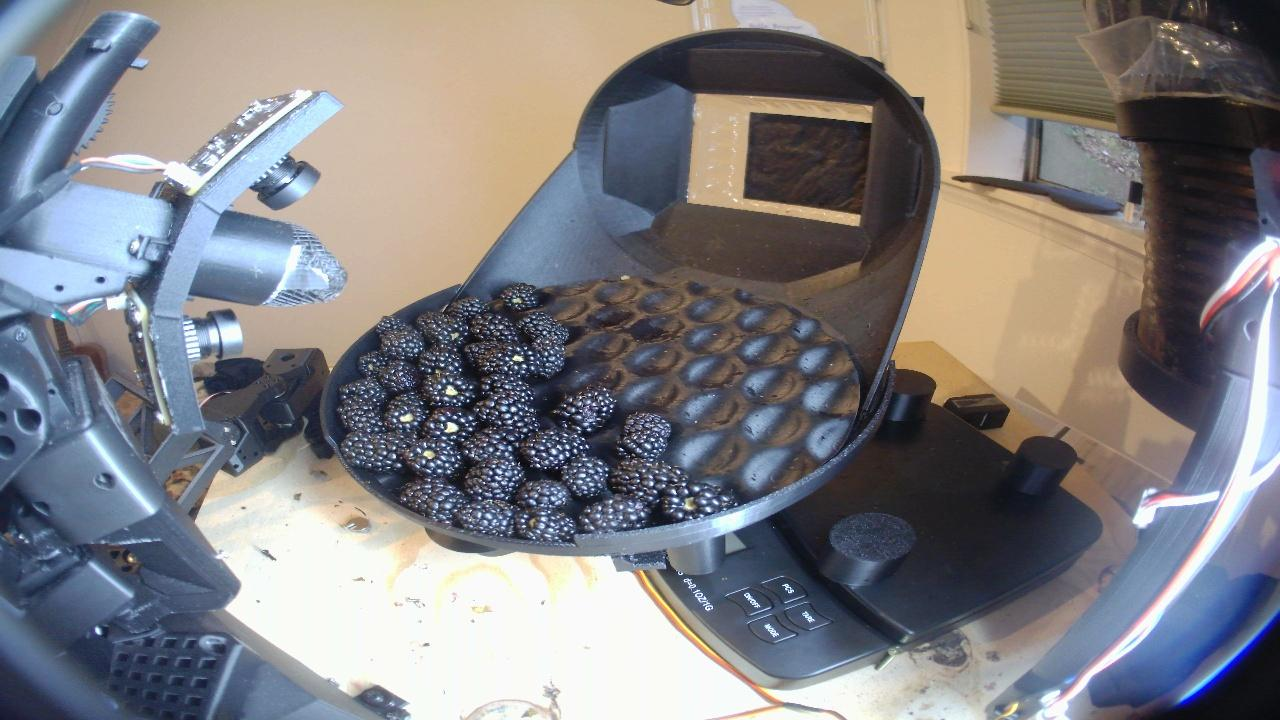berry: (660, 481, 738, 522), (461, 422, 539, 463), (555, 384, 617, 434), (612, 459, 688, 499), (580, 494, 657, 533), (341, 431, 414, 472), (613, 411, 673, 459), (399, 479, 464, 522), (519, 427, 584, 470), (464, 457, 526, 502), (402, 439, 466, 480), (473, 392, 535, 427), (463, 341, 528, 374), (419, 407, 478, 442), (383, 392, 431, 435), (559, 457, 608, 499), (454, 500, 514, 534), (515, 479, 574, 510), (422, 373, 474, 407), (516, 507, 567, 541), (380, 326, 427, 360), (468, 313, 523, 340), (339, 399, 384, 432), (518, 310, 564, 340), (416, 311, 460, 342), (378, 360, 418, 394), (417, 343, 460, 374), (476, 373, 529, 397), (338, 378, 385, 402), (501, 282, 538, 310), (527, 337, 563, 364), (358, 349, 391, 378), (445, 296, 485, 319), (374, 315, 406, 336)
